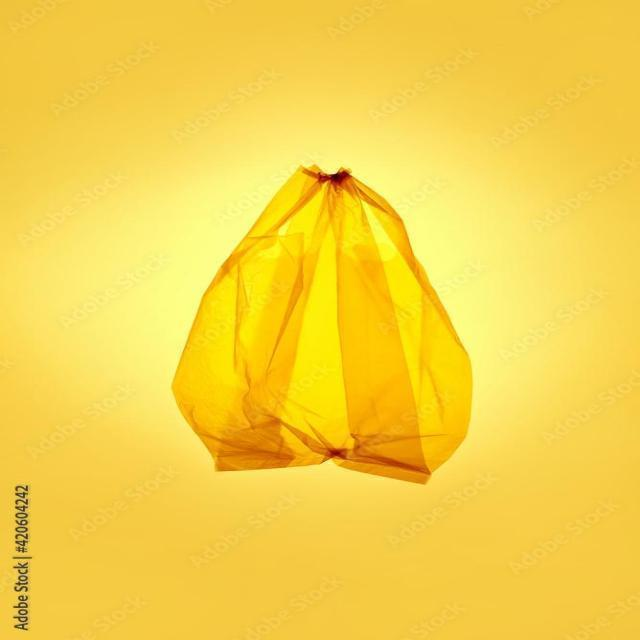Plastic_Bag: (167, 162, 484, 484)
